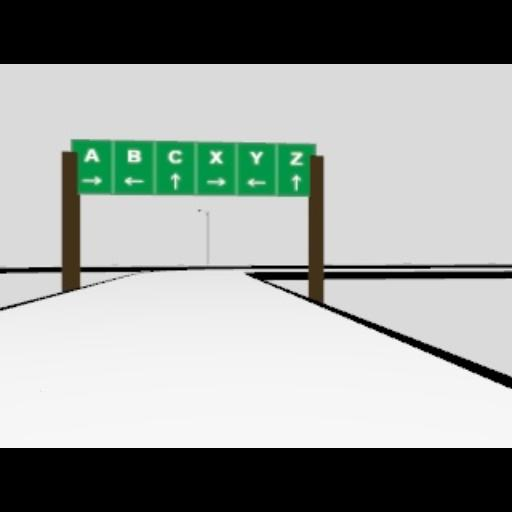A: (83, 147, 99, 161)
B: (127, 148, 141, 162)
C: (166, 149, 182, 163)
Left: (245, 177, 267, 187), (124, 176, 144, 186)
Right: (80, 176, 102, 186), (206, 176, 226, 186)
Straight: (170, 171, 180, 189), (290, 173, 300, 191)
X: (208, 149, 222, 163)
Y: (248, 151, 262, 165)
Z: (290, 151, 304, 165)
